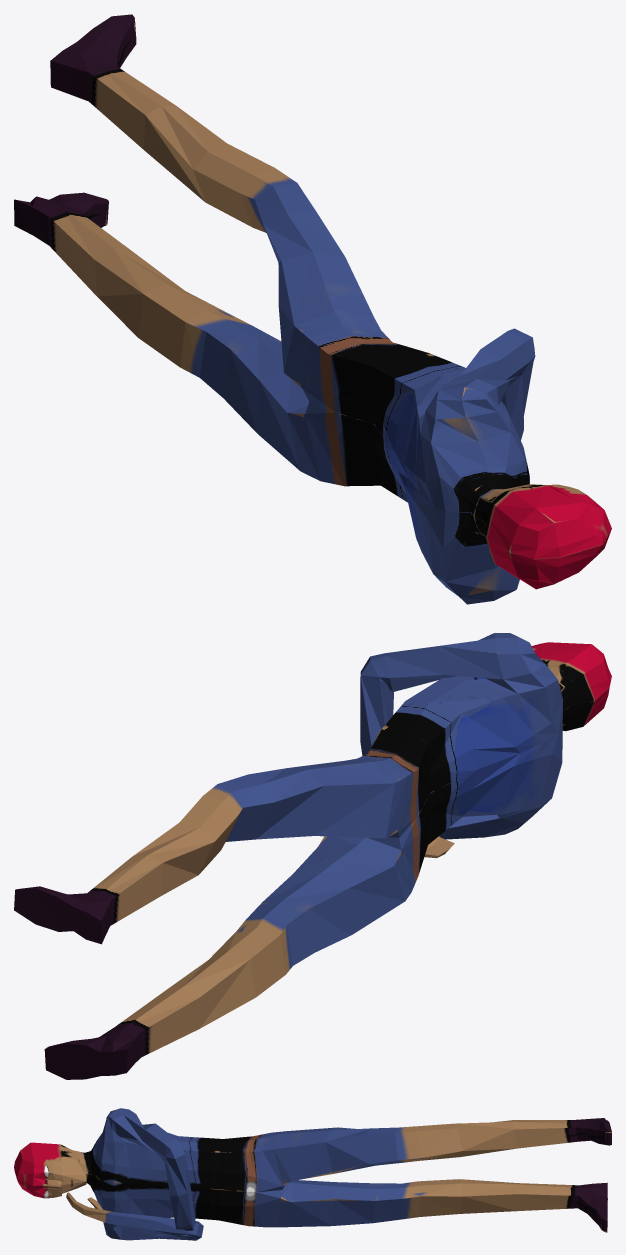
File: mirrorman_000022.obj
The picture shows the model from 3 angles, top to bottom: view 1: azimuth 30°, elevation 25°; view 2: azimuth 150°, elevation 25°; view 3: azimuth 270°, elevation 25°; orthographic projection. The views are drawn at different scales.
Parts seen in each view (by area): view 1: mirrorman_Cube.001_Material.001; view 2: mirrorman_Cube.001_Material.001; view 3: mirrorman_Cube.001_Material.001.
Part boxes in pixels (x1,y1,x2,y2): mirrorman_Cube.001_Material.001: [14, 14, 611, 604]; mirrorman_Cube.001_Material.001: [14, 633, 611, 1079]; mirrorman_Cube.001_Material.001: [14, 1108, 611, 1240].
Size of the model in its own units: 0.3296 by 0.4671 by 1.9.
Materials: 1 (1 with a texture image).
